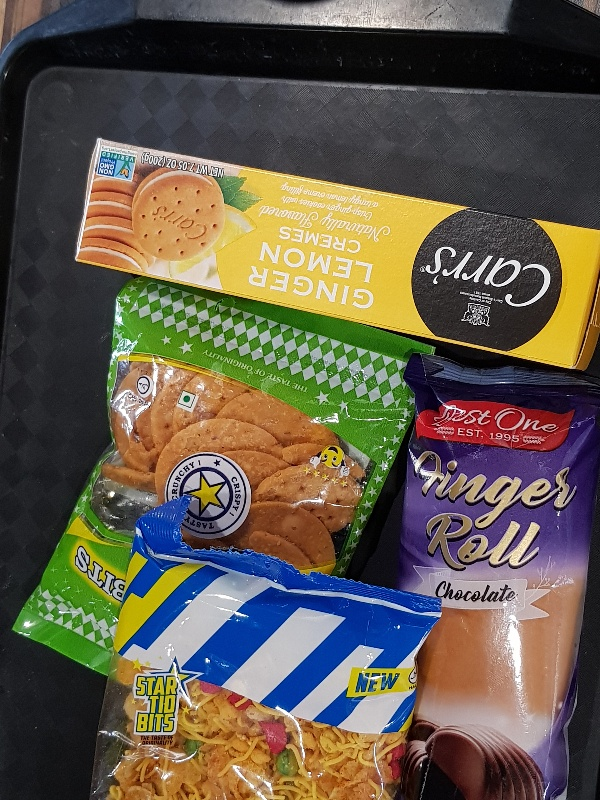Carr's Ginger Lemon Cremes: (73, 135, 600, 372)
Star Tidbits 'O' Ring: (12, 277, 435, 677)
Star Tidbits Mixer: (87, 493, 443, 800)
Tinges Roll Chocolate: (400, 351, 599, 800)
